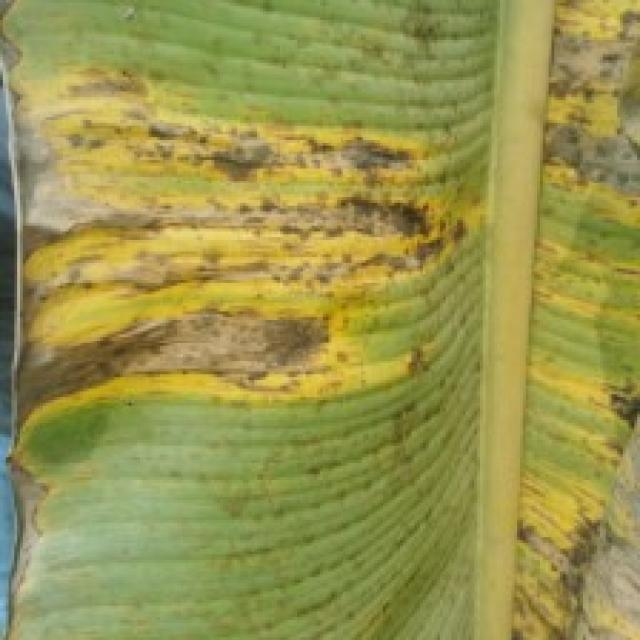Downey_mildrew: (4, 1, 640, 639), (12, 53, 498, 466), (505, 0, 640, 640)
